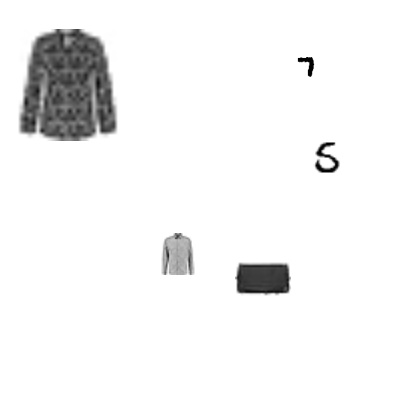5: (305, 138, 347, 180)
7: (294, 50, 322, 78)
Bag: (235, 251, 291, 307)
Shirt: (12, 29, 124, 141), (157, 233, 199, 275)
